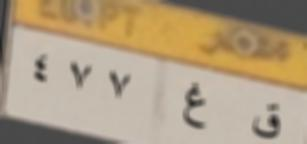4: (29, 47, 52, 89)
7: (68, 57, 94, 98), (109, 64, 133, 106)
ghayn: (181, 82, 210, 136)
qaaf: (250, 97, 283, 144)
